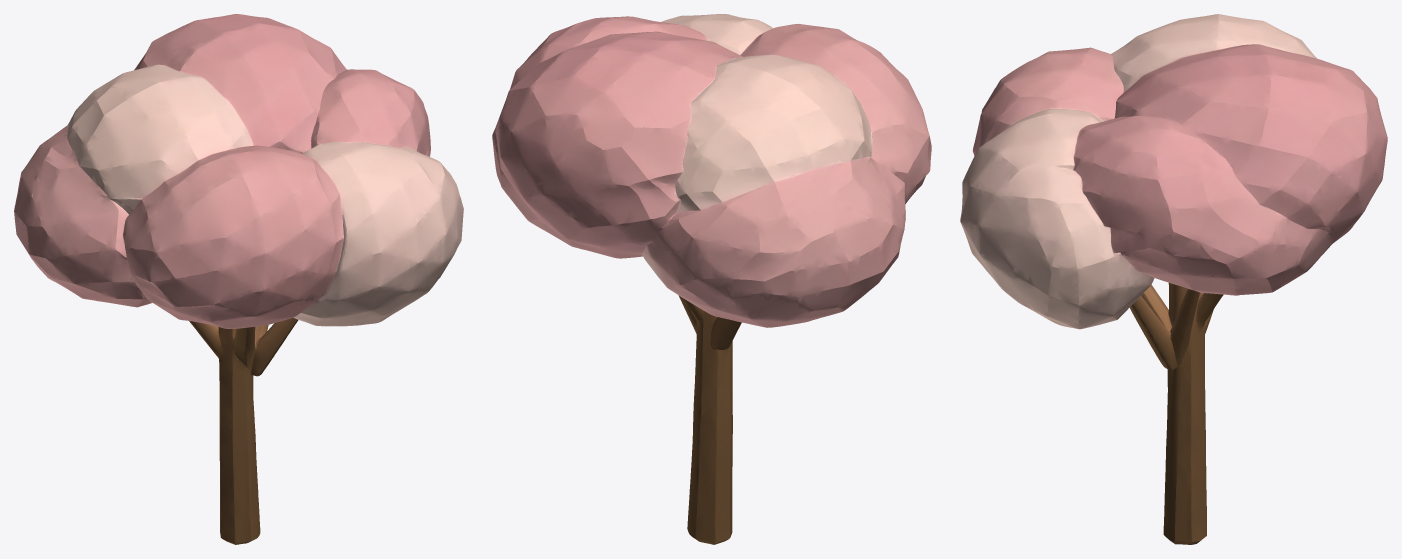
File: source.glb
3 renders of one model, left to right at view 1: azimuth 30°, elevation 25°; view 2: azimuth 150°, elevation 25°; view 3: azimuth 270°, elevation 25°, orthographic. The views are drawn at different scales.
Visible parts, largest first — view 1: model; view 2: model; view 3: model.
Part boxes in pixels (x1,y1,x2,y2): model: (14, 14, 463, 544); model: (492, 14, 931, 544); model: (960, 14, 1387, 544).
Size of the model in its own units: 1.55 by 1.9 by 1.48.
1 material, 1 textured.
